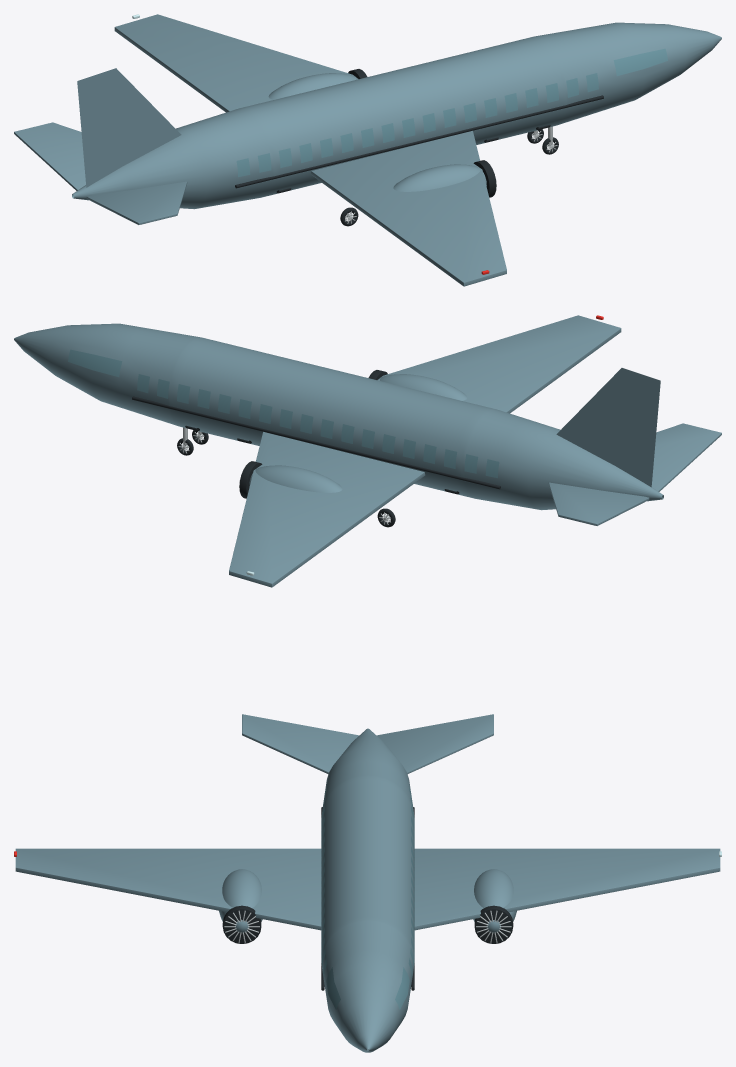
Rendered from Airliner.fbx.
The picture shows the model from 3 angles, top to bottom: view 1: azimuth 30°, elevation 25°; view 2: azimuth 150°, elevation 25°; view 3: azimuth 270°, elevation 25°; orthographic projection.
Parts seen in each view (by area): view 1: BodyPaint, Glazing, TrimRubber.002; view 2: BodyPaint, Glazing, TrimRubber.002; view 3: BodyPaint, TrimRubber.002, Glazing, BrushedAlloy.
Boxes of the visible parts, box(x1,y1,x2,y2) form: BodyPaint: box(14, 14, 721, 286); Glazing: box(236, 48, 667, 177); TrimRubber.002: box(235, 69, 603, 197); BodyPaint: box(14, 315, 721, 587); Glazing: box(68, 349, 499, 478); TrimRubber.002: box(132, 370, 500, 498); BodyPaint: box(15, 714, 720, 1052); TrimRubber.002: box(222, 807, 513, 990); Glazing: box(321, 786, 414, 1009); BrushedAlloy: box(224, 910, 511, 942).
Bounding box in the file's own units: 3000 × 824 × 2812.
